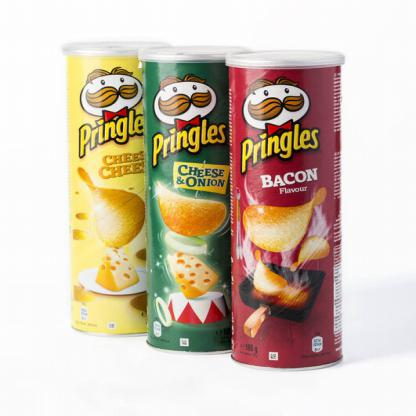potatochip: (138, 48, 262, 359), (224, 47, 342, 370), (61, 37, 178, 340)
